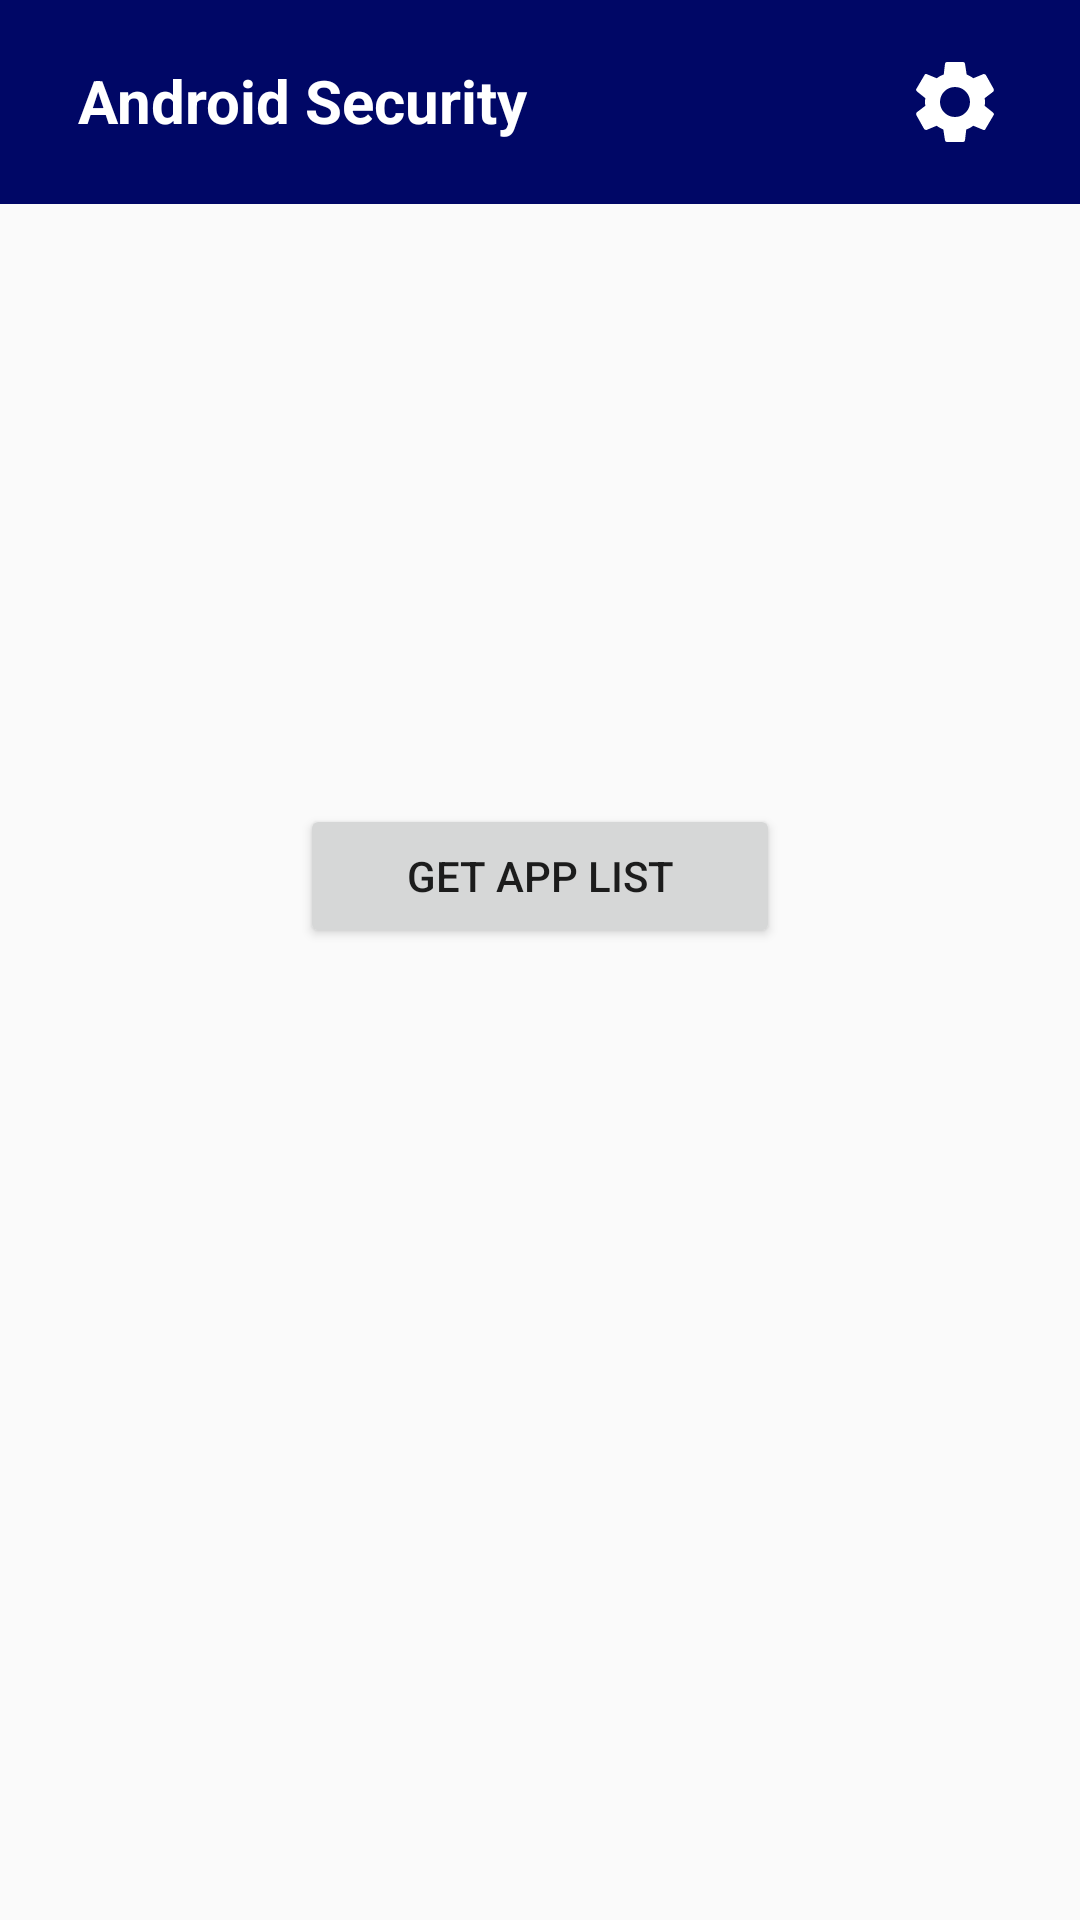

Icon bounding boxes for this 1080x1920 phone screenshot, format (x1, y1, x2, y2):
settings: (916, 62, 994, 142)
